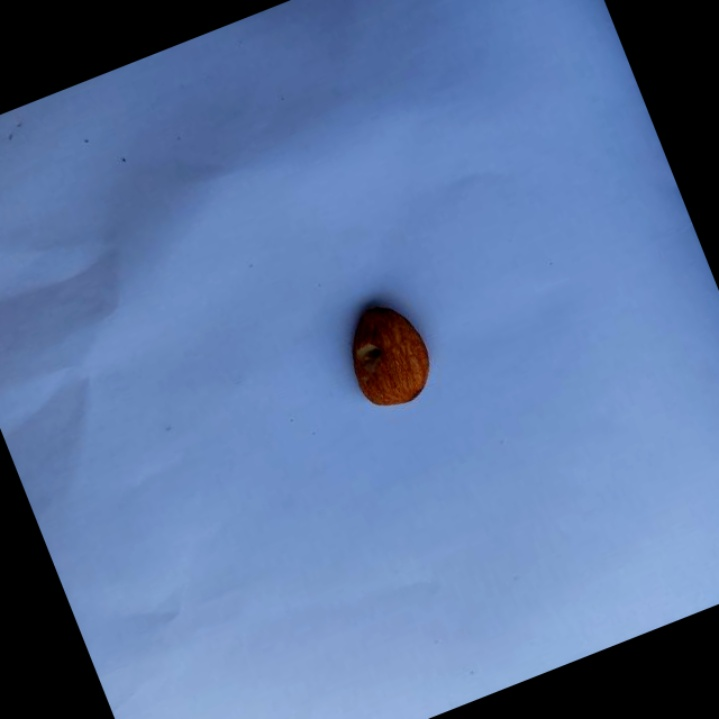grade3: (327, 289, 446, 423)
